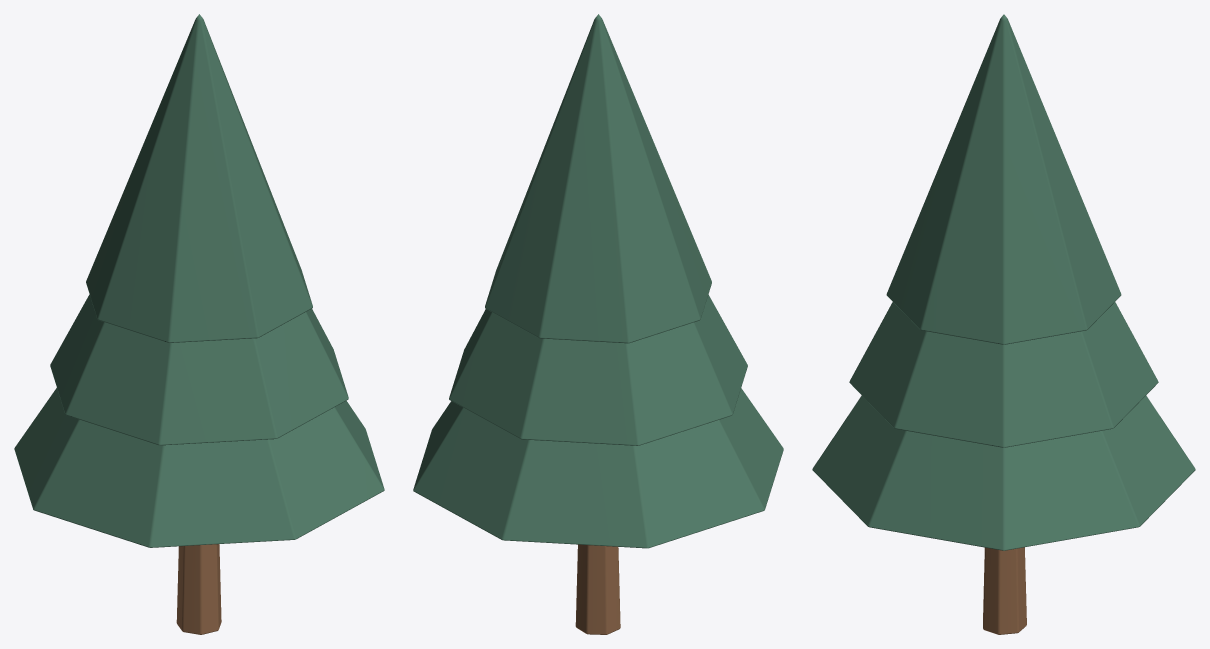
The model's file is pine.glb.
3 views of the same model, side by side, from view 1: azimuth 30°, elevation 25°; view 2: azimuth 150°, elevation 25°; view 3: azimuth 270°, elevation 25° (orthographic).
Visible parts, largest first — view 1: pine_Pine_Crown.002, pine_Pine_Crown, pine_Pine_Crown.001, pine_Tree_Trunk; view 2: pine_Pine_Crown.002, pine_Pine_Crown, pine_Pine_Crown.001, pine_Tree_Trunk; view 3: pine_Pine_Crown.002, pine_Pine_Crown, pine_Pine_Crown.001, pine_Tree_Trunk.
Part boxes in pixels (x1,y1,x2,y2): pine_Pine_Crown.002: [86, 14, 312, 342]; pine_Pine_Crown: [14, 388, 384, 547]; pine_Pine_Crown.001: [50, 294, 348, 445]; pine_Tree_Trunk: [176, 544, 221, 634]; pine_Pine_Crown.002: [485, 14, 711, 343]; pine_Pine_Crown: [413, 388, 783, 548]; pine_Pine_Crown.001: [449, 294, 747, 445]; pine_Tree_Trunk: [575, 544, 620, 634]; pine_Pine_Crown.002: [886, 14, 1121, 344]; pine_Pine_Crown: [812, 395, 1195, 550]; pine_Pine_Crown.001: [849, 302, 1158, 447]; pine_Tree_Trunk: [983, 547, 1026, 634].
Bounding box in the file's own units: 2.79 × 4.91 × 2.79.
